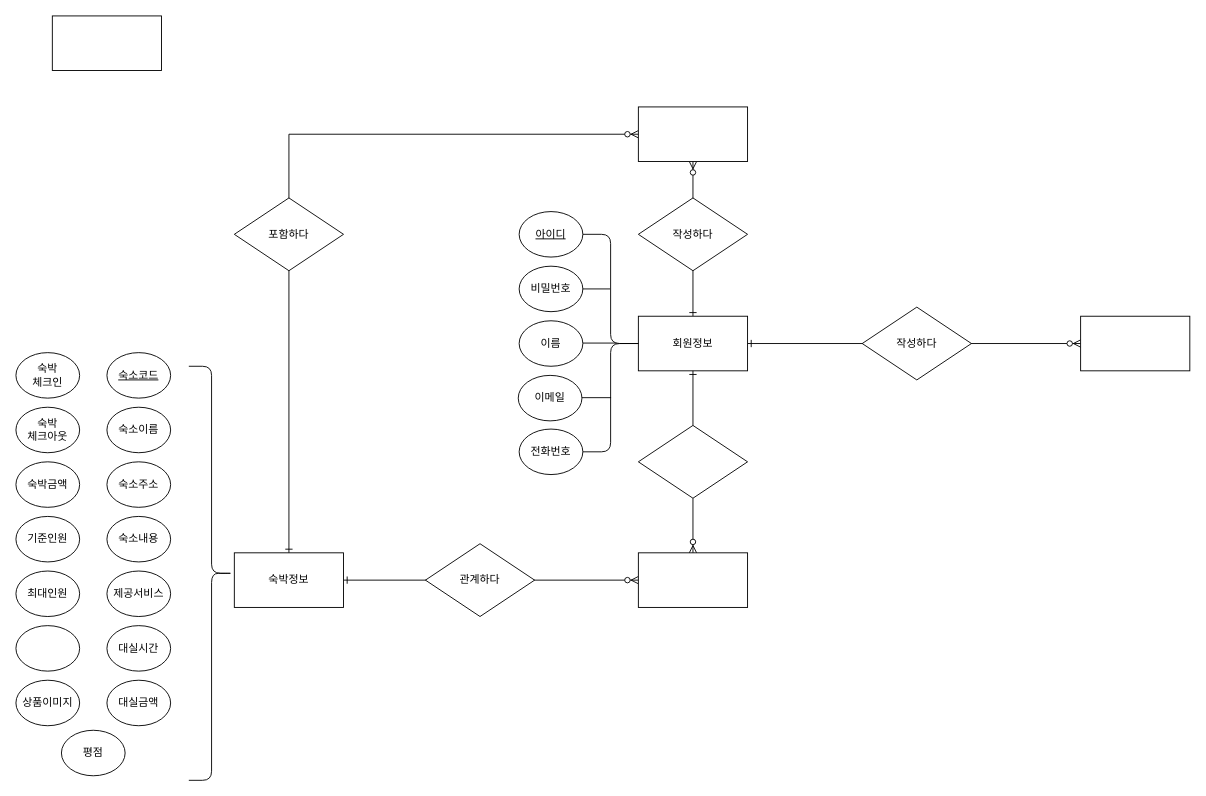
This 1206x796 diagram has some shape labels left out. Each missing label, with the centre of its shape:
"공지사항" belongs at point 106,43.
"문의사항" belongs at point 1135,343.
"방종류" belongs at point 47,648.
"예약정보" belongs at point 692,579.
"예약하다" belongs at point 692,461.
"후기" belongs at point 692,134.
